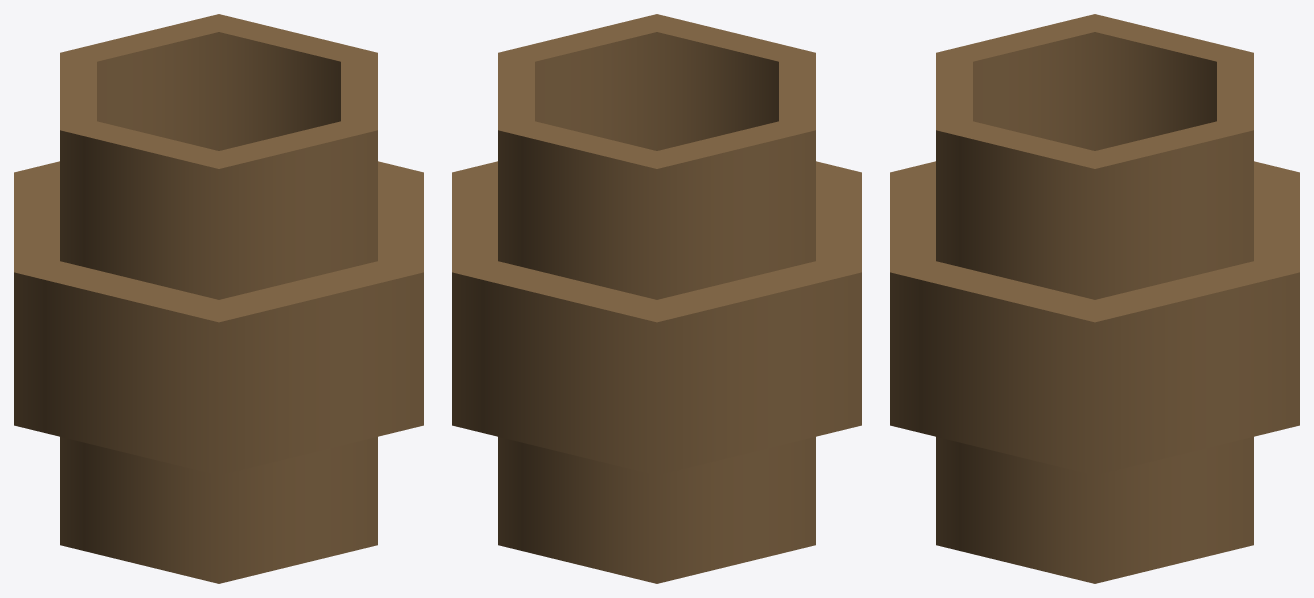
File: WallDecoH.fbx
3 views of the same model, side by side, from view 1: azimuth 30°, elevation 25°; view 2: azimuth 150°, elevation 25°; view 3: azimuth 270°, elevation 25° (orthographic).
Parts seen in each view (by area): view 1: WallDecoH; view 2: WallDecoH; view 3: WallDecoH.
Part boxes in pixels (x1,y1,x2,y2): WallDecoH: [14, 14, 423, 583]; WallDecoH: [452, 14, 861, 583]; WallDecoH: [890, 14, 1299, 583].
Size of the model in its own units: 0.4027 by 0.3897 by 0.3487.
